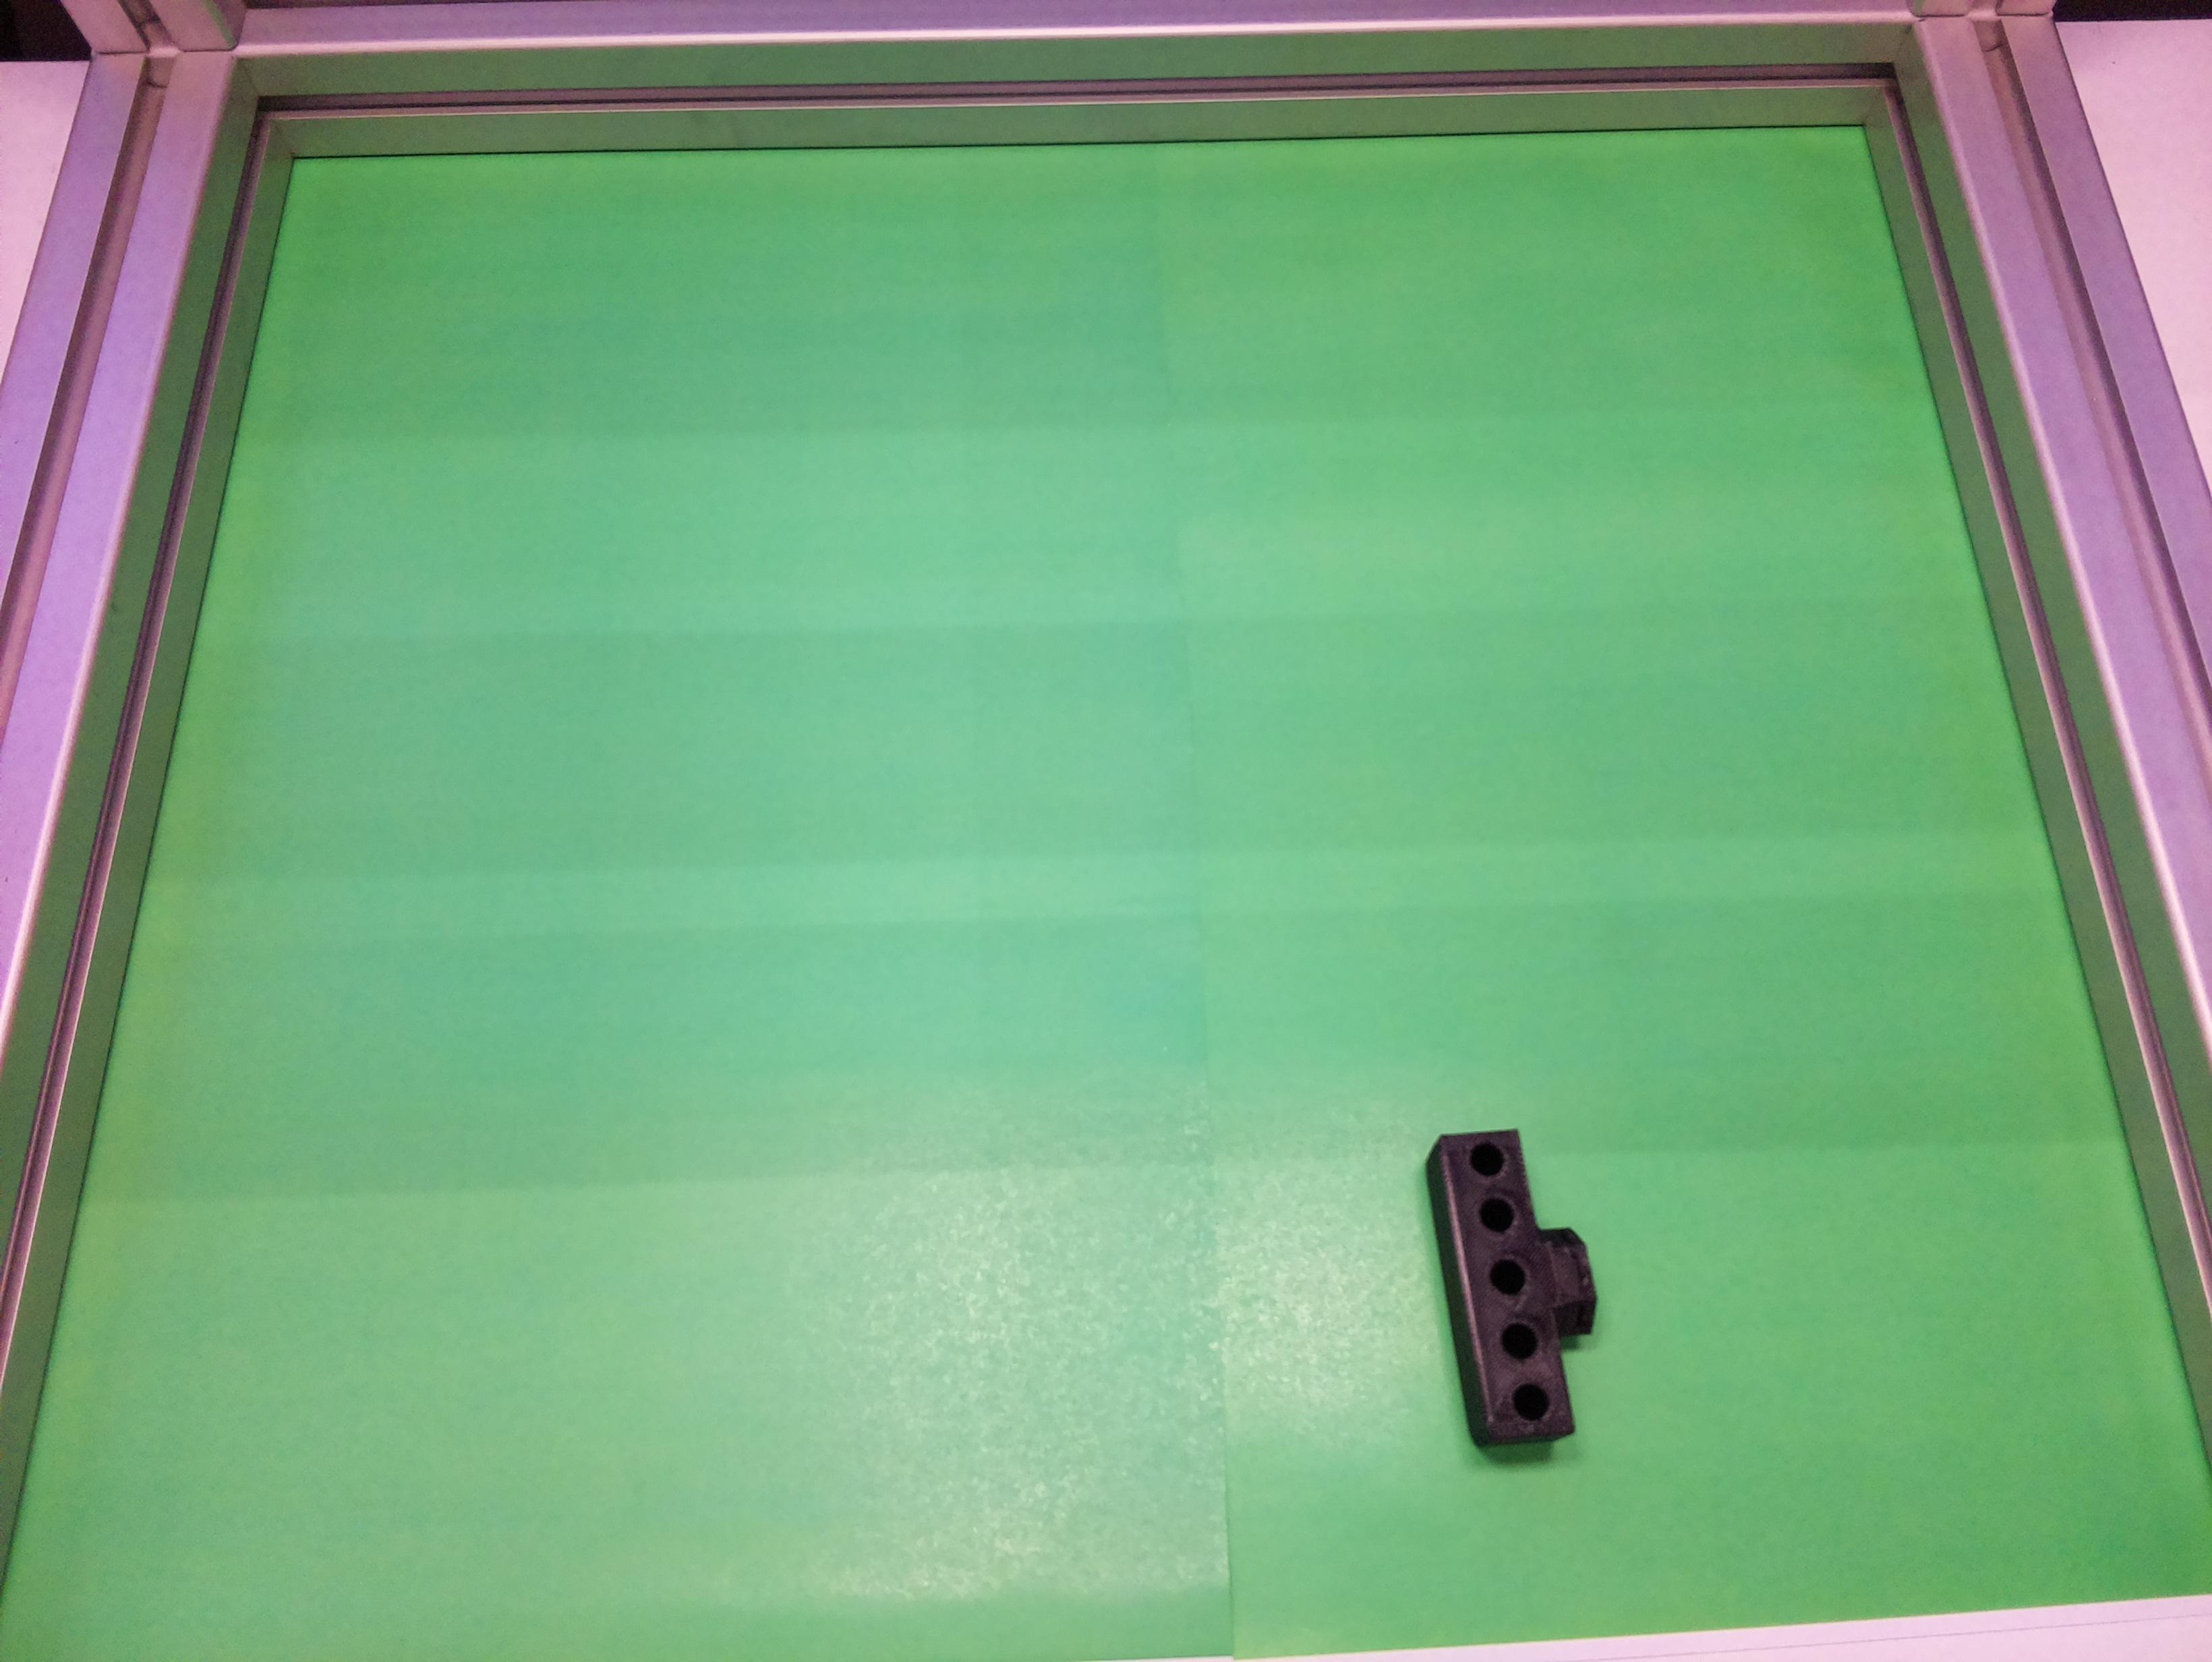bit_holder: (1407, 1112, 1624, 1458)
